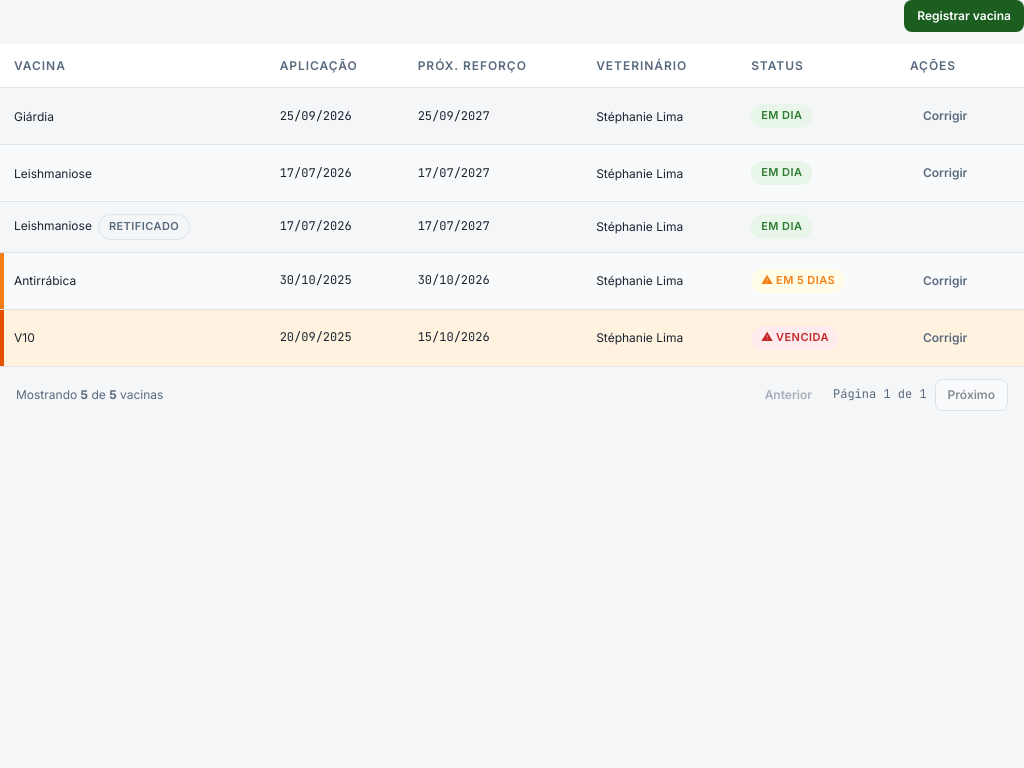
Test: ModalRegistrarVacina — catálogo de vacinas da API › catálogo vazio informa que não há opção cadastrada e não permite enviar
expect the text "V10" is shown: met, box x1=0 y1=310 x2=266 y2=366
Click the button "Registrar vacina": (964, 16) x1=904 y1=0 x2=1023 y2=32
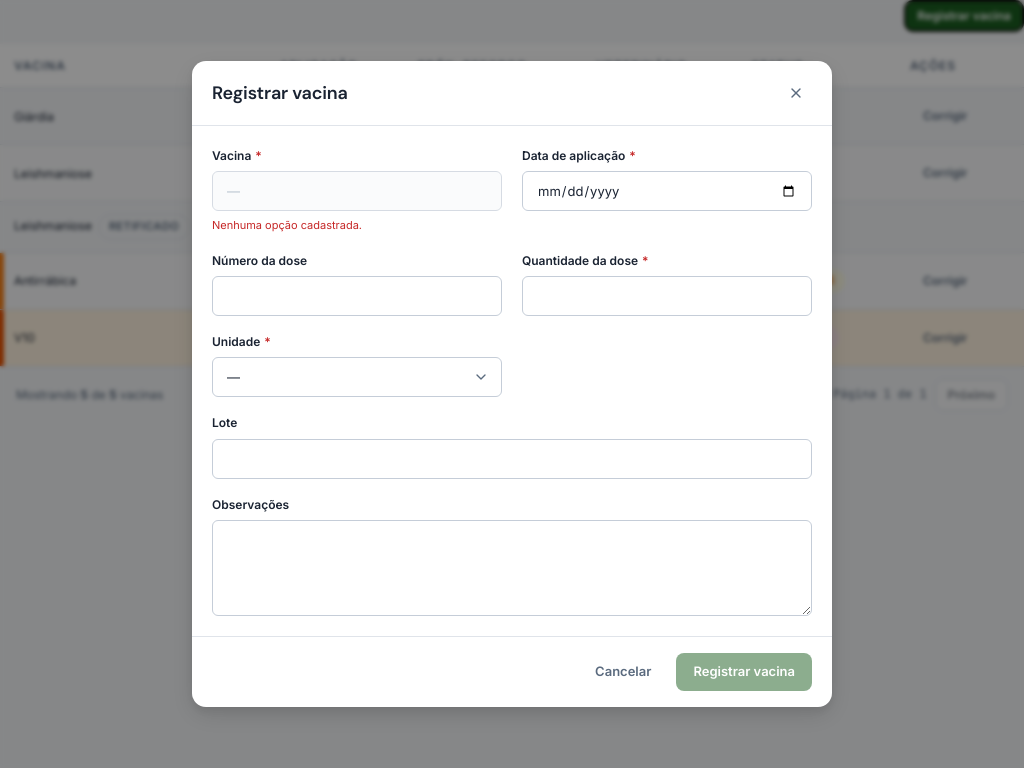
expect the text "Nenhuma opção cadastrada." is shown: met, box x1=212 y1=218 x2=362 y2=232
expect the button "Registrar vacina" is disabled: met, box x1=676 y1=653 x2=812 y2=691
